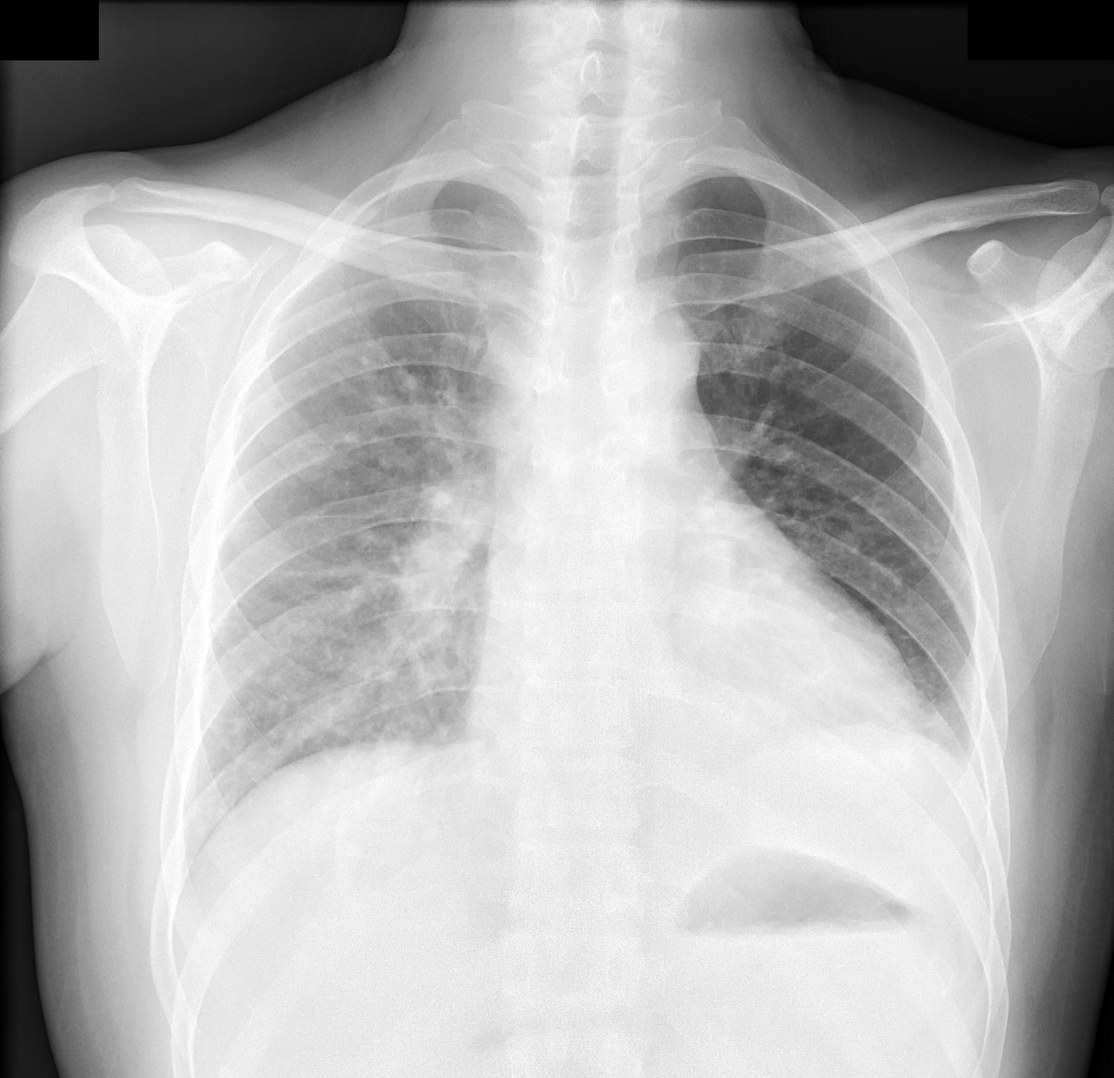Cardiomegaly: (468, 642, 920, 762)
